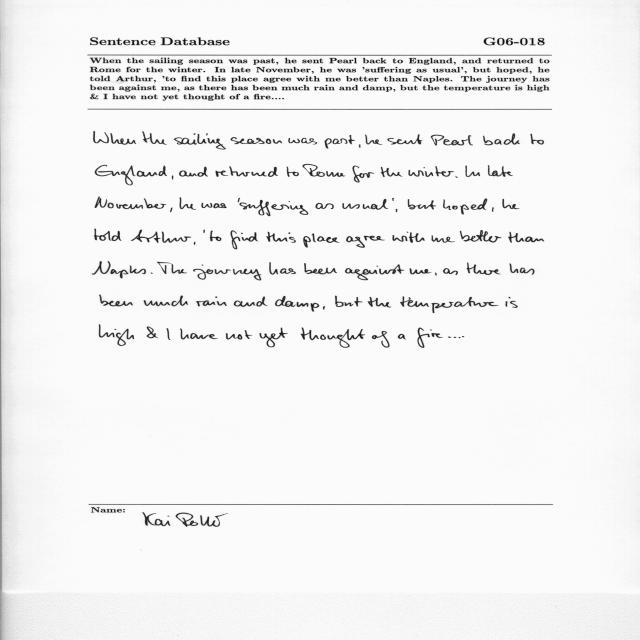word: (400, 296, 499, 313), (95, 165, 167, 185), (301, 328, 365, 348), (240, 200, 308, 216), (193, 265, 261, 281), (345, 265, 404, 281), (92, 262, 146, 279), (95, 197, 167, 209), (174, 134, 226, 150), (131, 230, 191, 243), (99, 325, 134, 346), (443, 199, 487, 215), (216, 166, 278, 177), (275, 296, 319, 311), (94, 131, 136, 145), (303, 164, 346, 177), (460, 230, 502, 243), (260, 328, 288, 347), (417, 328, 443, 348), (303, 234, 340, 248), (231, 231, 258, 250), (343, 199, 389, 210), (409, 166, 454, 177), (143, 296, 188, 307), (346, 236, 385, 248), (431, 135, 473, 146), (483, 134, 520, 146), (325, 135, 355, 149), (466, 263, 501, 275), (180, 329, 218, 340), (508, 232, 544, 243), (388, 134, 423, 145), (352, 166, 374, 183), (392, 232, 425, 243), (304, 263, 337, 274), (100, 295, 133, 306), (234, 296, 267, 307), (157, 262, 187, 274), (231, 137, 282, 144), (269, 262, 296, 275), (142, 131, 167, 145), (94, 229, 122, 241), (266, 232, 296, 243), (196, 297, 227, 307), (408, 199, 436, 210), (335, 296, 363, 307), (372, 331, 390, 348), (488, 165, 513, 177), (179, 167, 208, 177), (510, 264, 535, 275), (226, 330, 252, 340), (368, 297, 392, 307), (180, 197, 197, 210), (381, 167, 402, 177), (365, 135, 383, 145), (288, 138, 317, 144), (503, 199, 520, 209), (432, 236, 456, 243), (466, 166, 481, 177), (530, 134, 544, 145), (287, 166, 299, 177), (210, 231, 222, 242), (410, 269, 432, 275), (506, 297, 518, 308), (202, 203, 227, 208), (147, 327, 158, 338), (315, 203, 334, 209), (443, 268, 458, 275), (167, 328, 171, 340), (398, 334, 406, 339), (448, 337, 460, 339), (492, 207, 494, 212), (170, 208, 172, 212), (238, 198, 240, 202), (323, 306, 325, 310), (455, 176, 458, 178), (392, 198, 394, 201), (203, 230, 205, 233), (435, 273, 437, 276), (359, 145, 360, 149), (172, 176, 173, 180), (396, 209, 397, 212), (194, 242, 195, 245), (150, 273, 153, 274), (462, 336, 464, 337)
